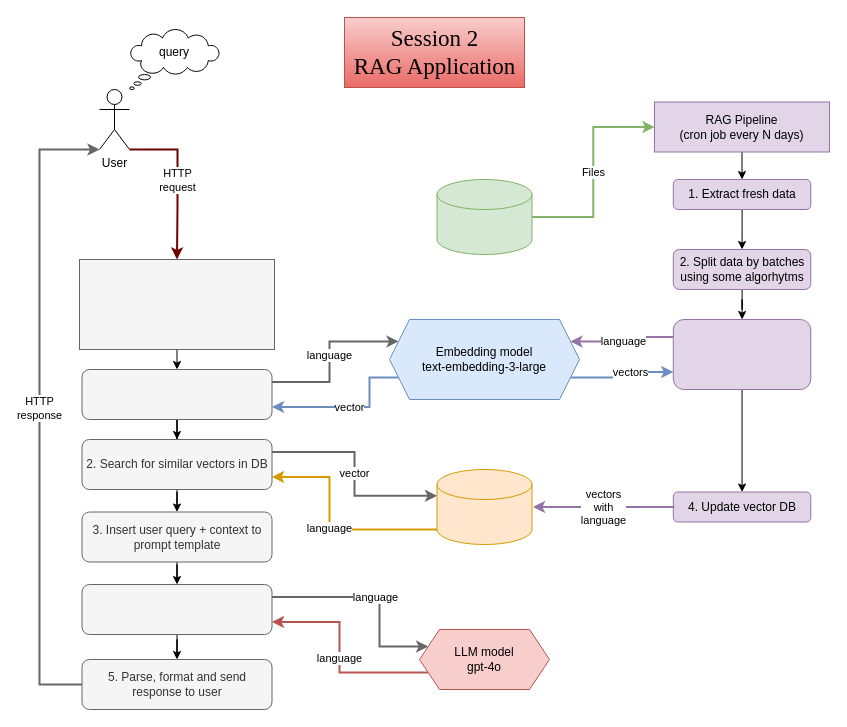
The diagram is 847 pixels wide and 727 high, and some of its shapes have lost their labels. Here are the shapes that lost their labels. From the top down, the centre of each, then its label:
At pixel 484 216: "Raw data source".
At pixel 176 304: "Backend / Chat".
At pixel 741 354: "3. Make embeddings".
At pixel 176 394: "1. Make embedding from query".
At pixel 484 506: "Vector DB".
At pixel 176 609: "4. Send prompt to LLM".
